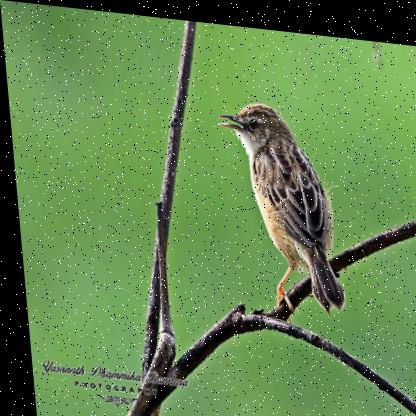Burung: (213, 92, 342, 323)
